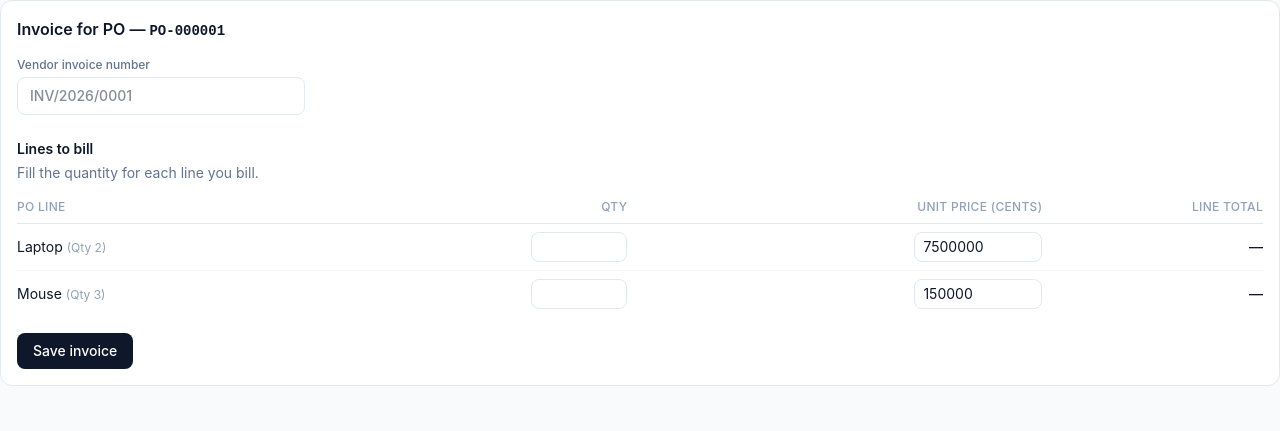
Scenario: InvoiceForm › runs the refresh dance on 401 with the session-expired notice
The width and height of the screenshot is (1280, 431).
Type "INV-1" into the field with test id "invoice-number" at [161, 96], box [17,77,305,115]
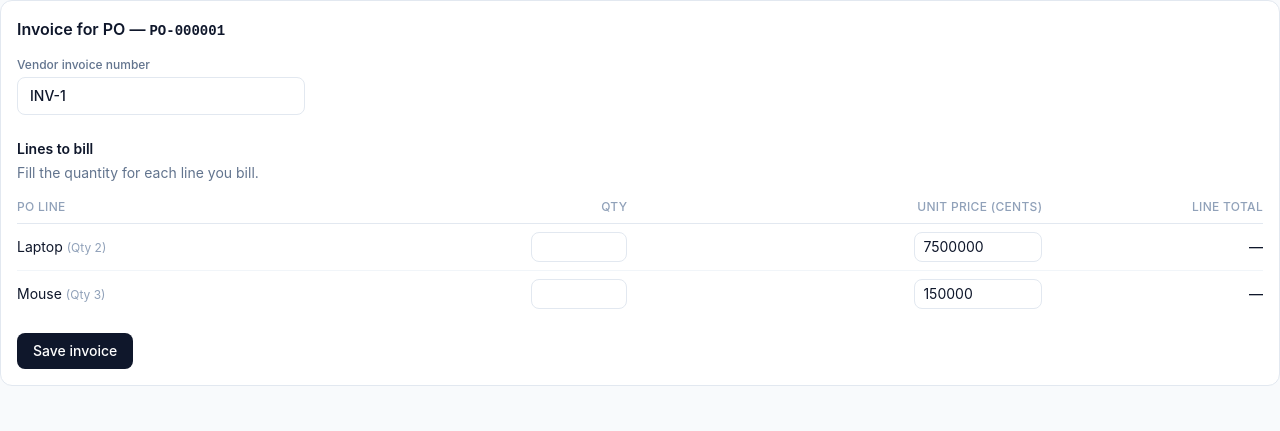
Type "1" into the number field with test id "invoice-qty-po-item-1" at [579, 247], box [531,232,627,262]
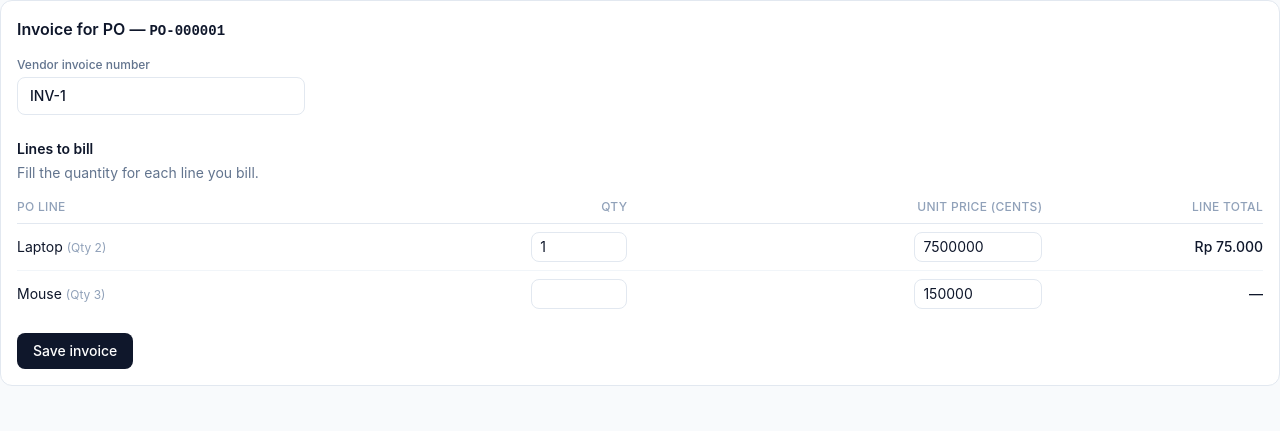
Click the button with test id "invoice-submit" at [75, 351], box [17,333,133,369]
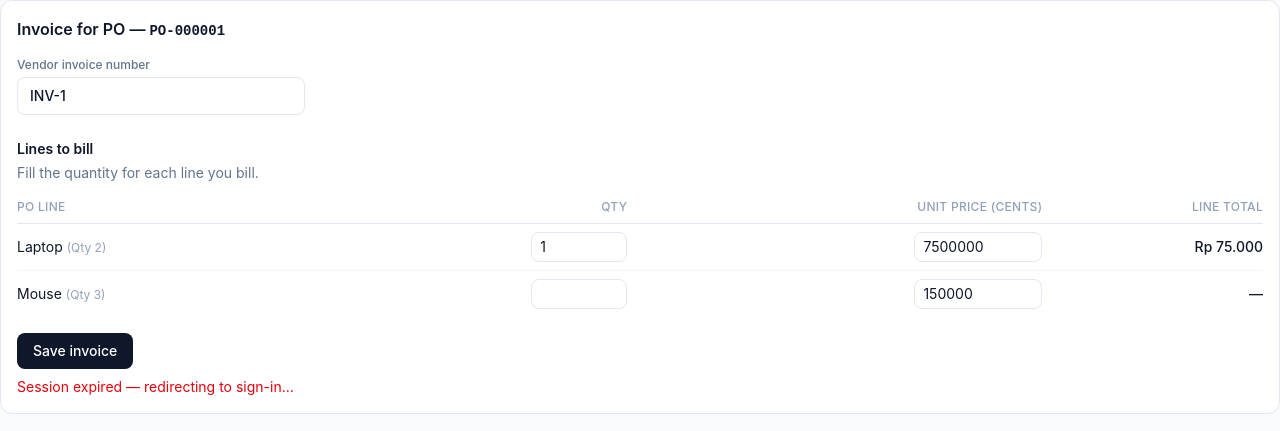
Check: the message with test id "invoice-form-error" reads "Session expired — redirecting to sign-in…", box [17,378,294,395]
